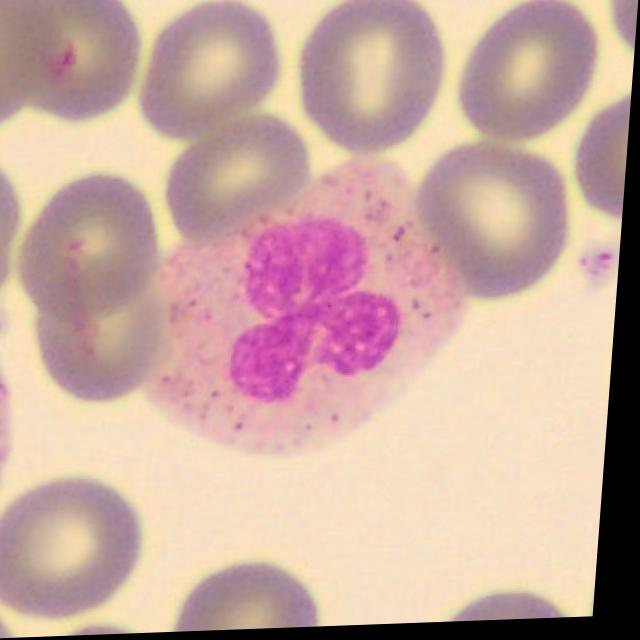Neutrofilo segmentado: (149, 157, 476, 459)
